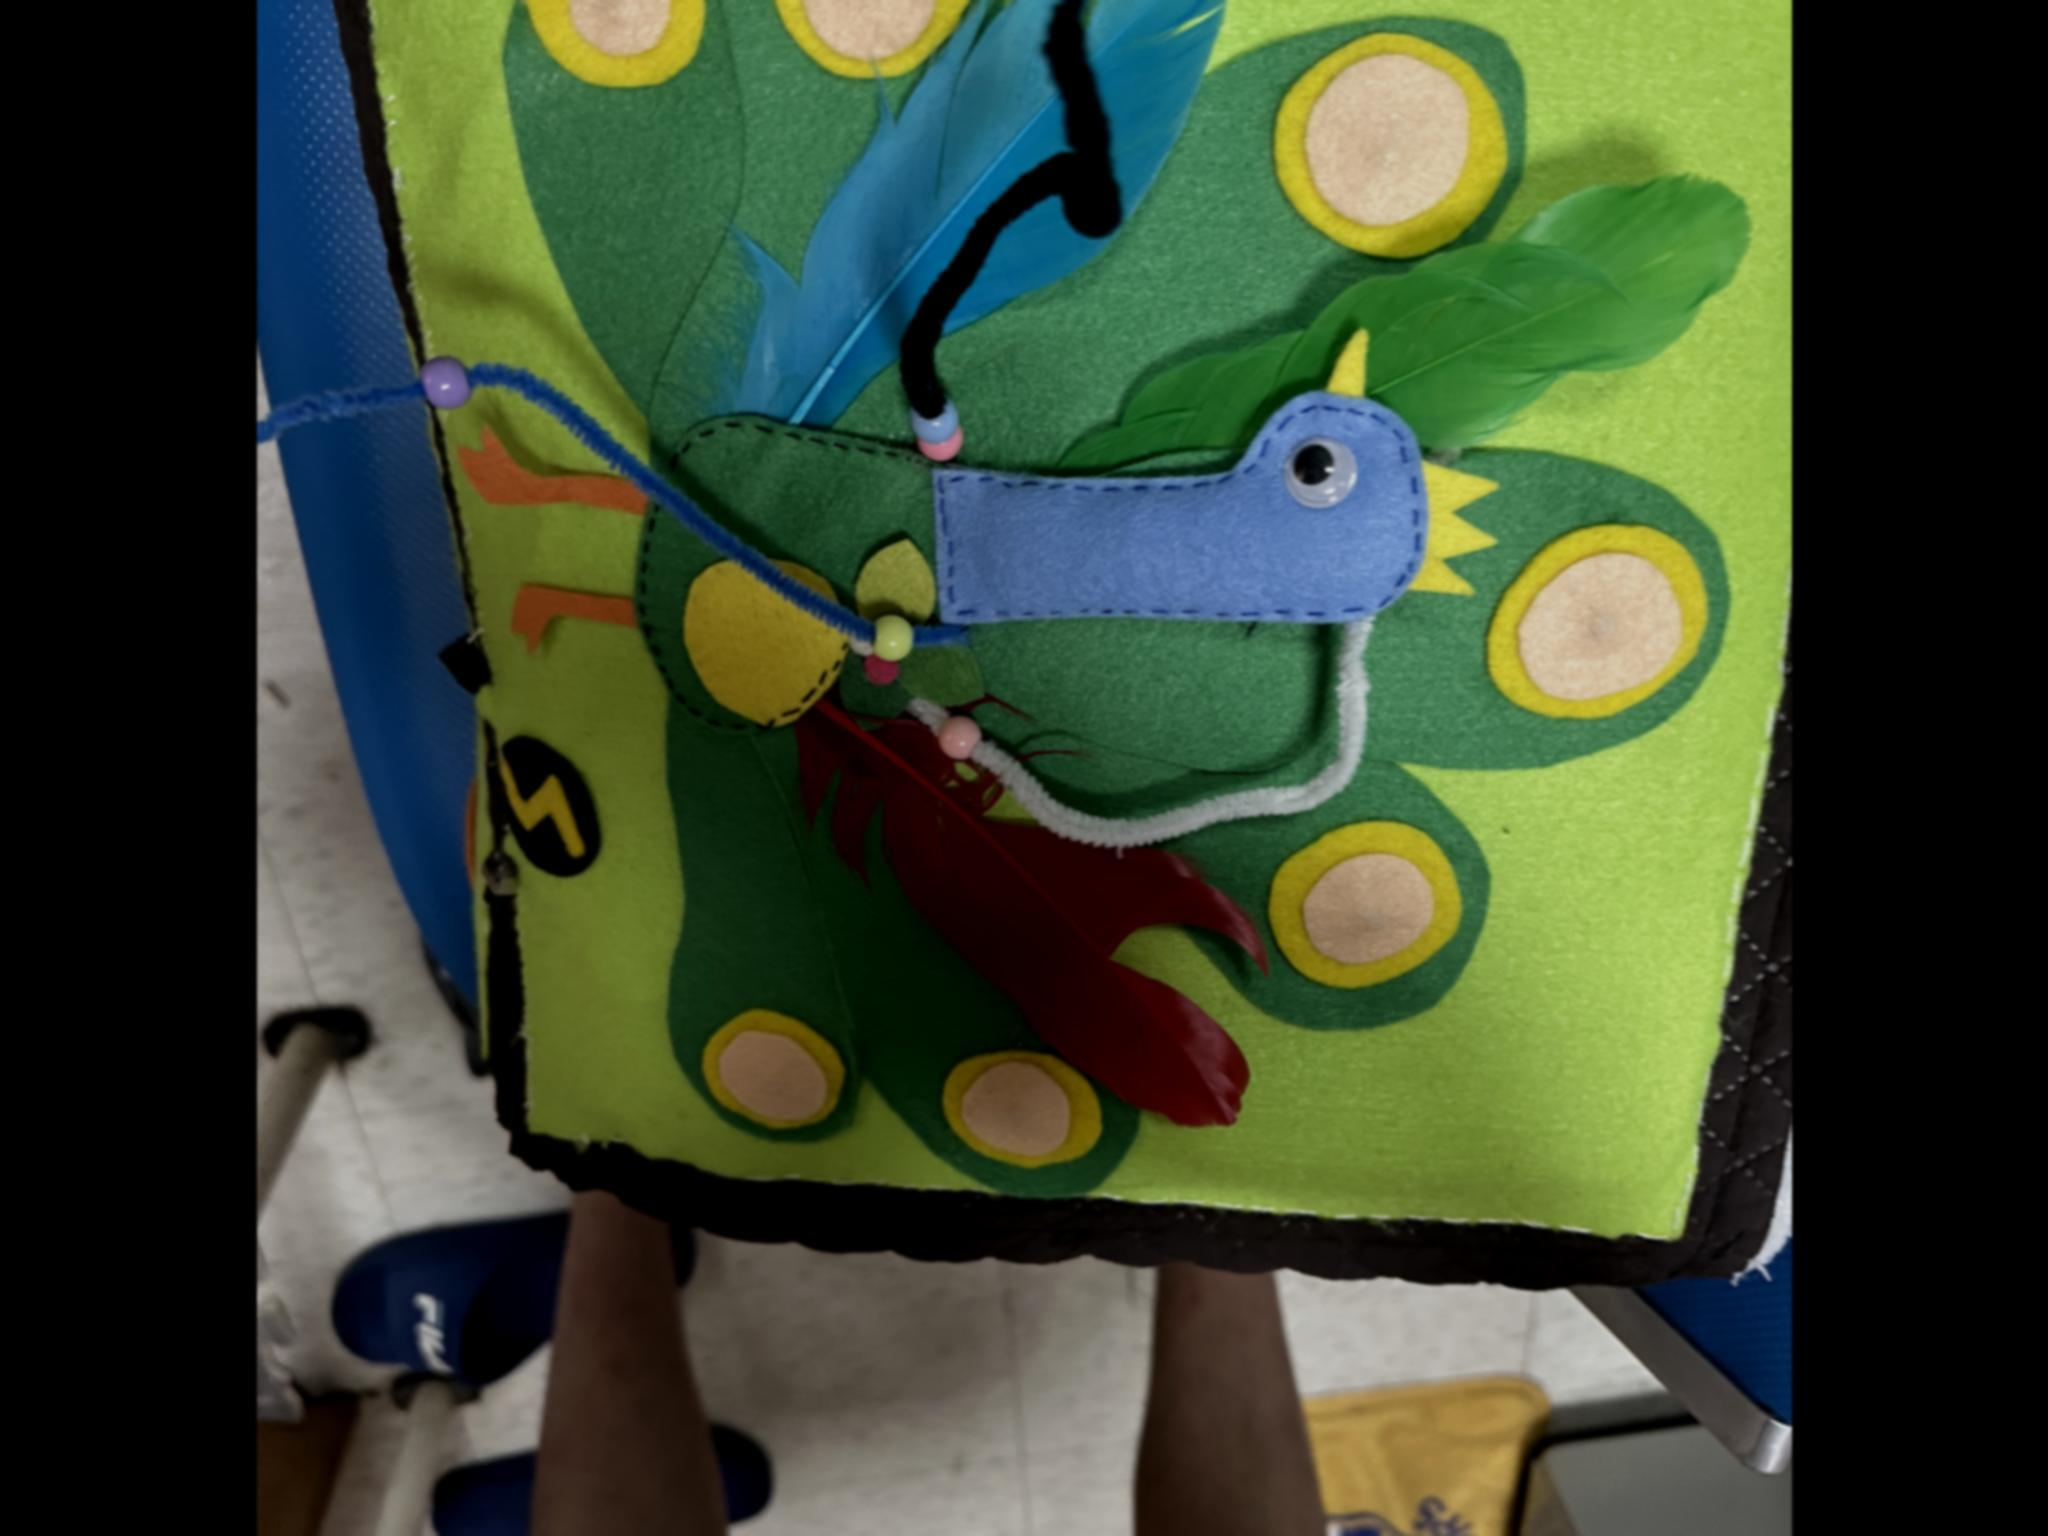bead: (398, 332, 479, 423), (916, 715, 1008, 781), (848, 608, 932, 670), (913, 397, 963, 439), (916, 436, 972, 465)
